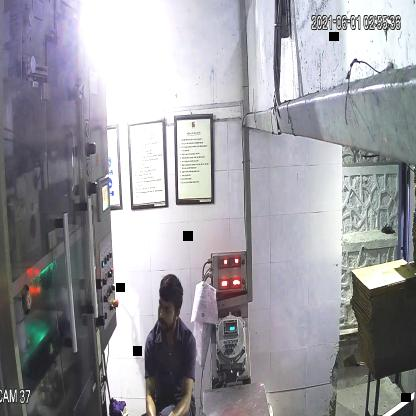no_goggles: (154, 297, 180, 319)
